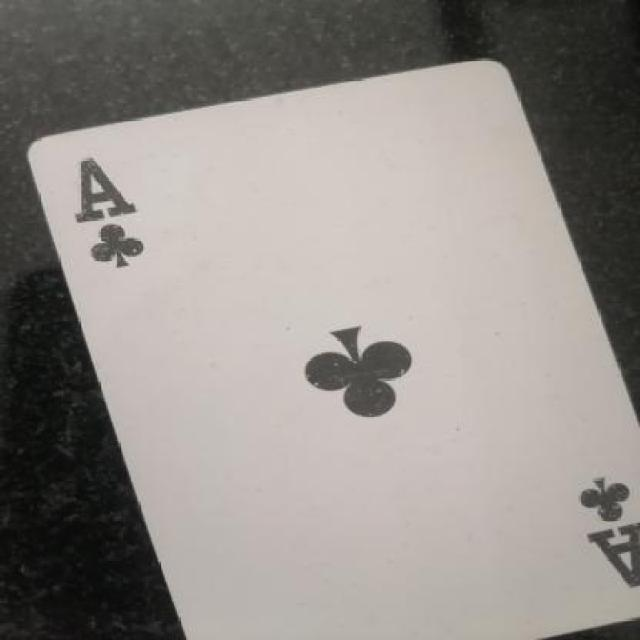AC: (56, 154, 167, 278), (571, 469, 640, 598)
